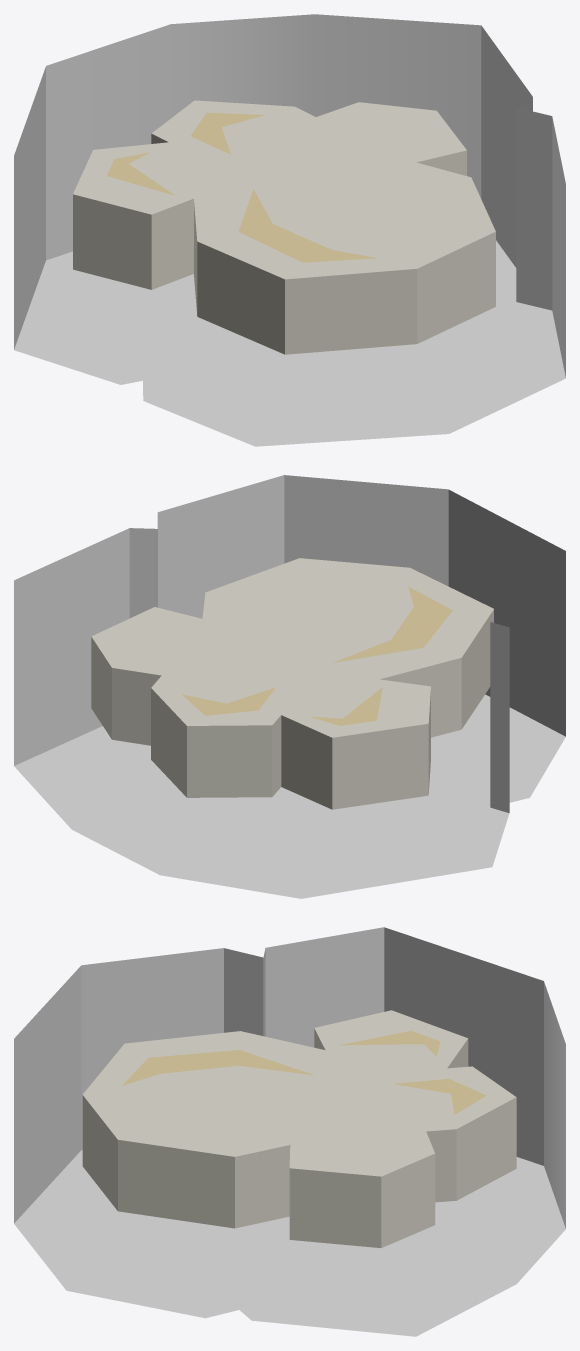
Rendered from PopscornKernel_0.glb.
3 renders of one model, top to bottom at view 1: azimuth 30°, elevation 25°; view 2: azimuth 150°, elevation 25°; view 3: azimuth 270°, elevation 25°, orthographic. The views are drawn at different scales.
Visible parts, largest first — view 1: PopscornKernel; view 2: PopscornKernel; view 3: PopscornKernel.
Part boxes in pixels (<box>): PopscornKernel: <box>14,14,565,446</box>; PopscornKernel: <box>14,475,565,898</box>; PopscornKernel: <box>14,927,565,1336</box>.
Size of the model in its own units: 0.1899 by 0.0729 by 0.1971.
